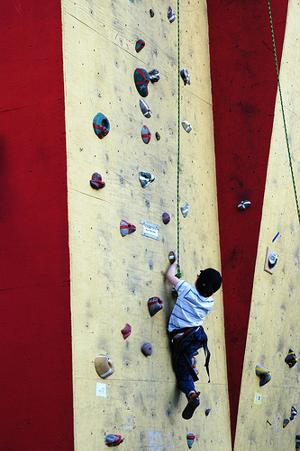person: (167, 250, 223, 423)
